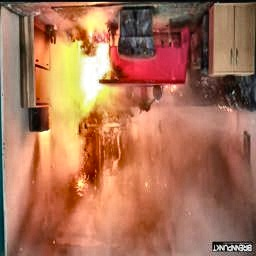fire: (60, 34, 129, 116)
